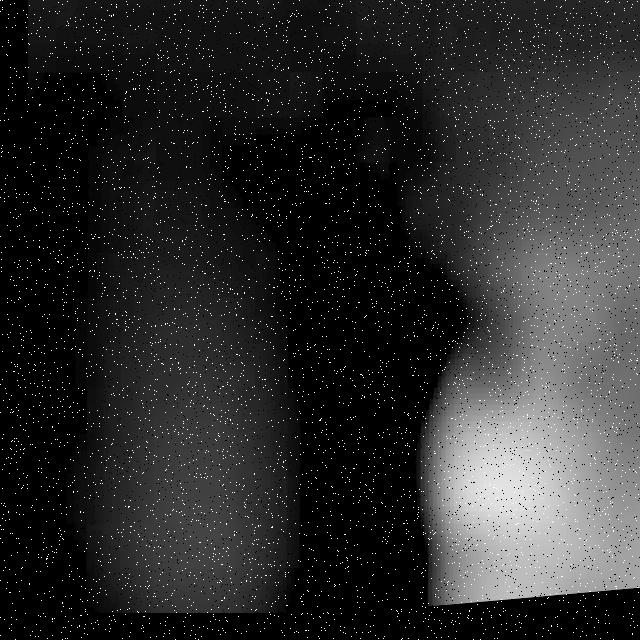person: (388, 143, 640, 615)
